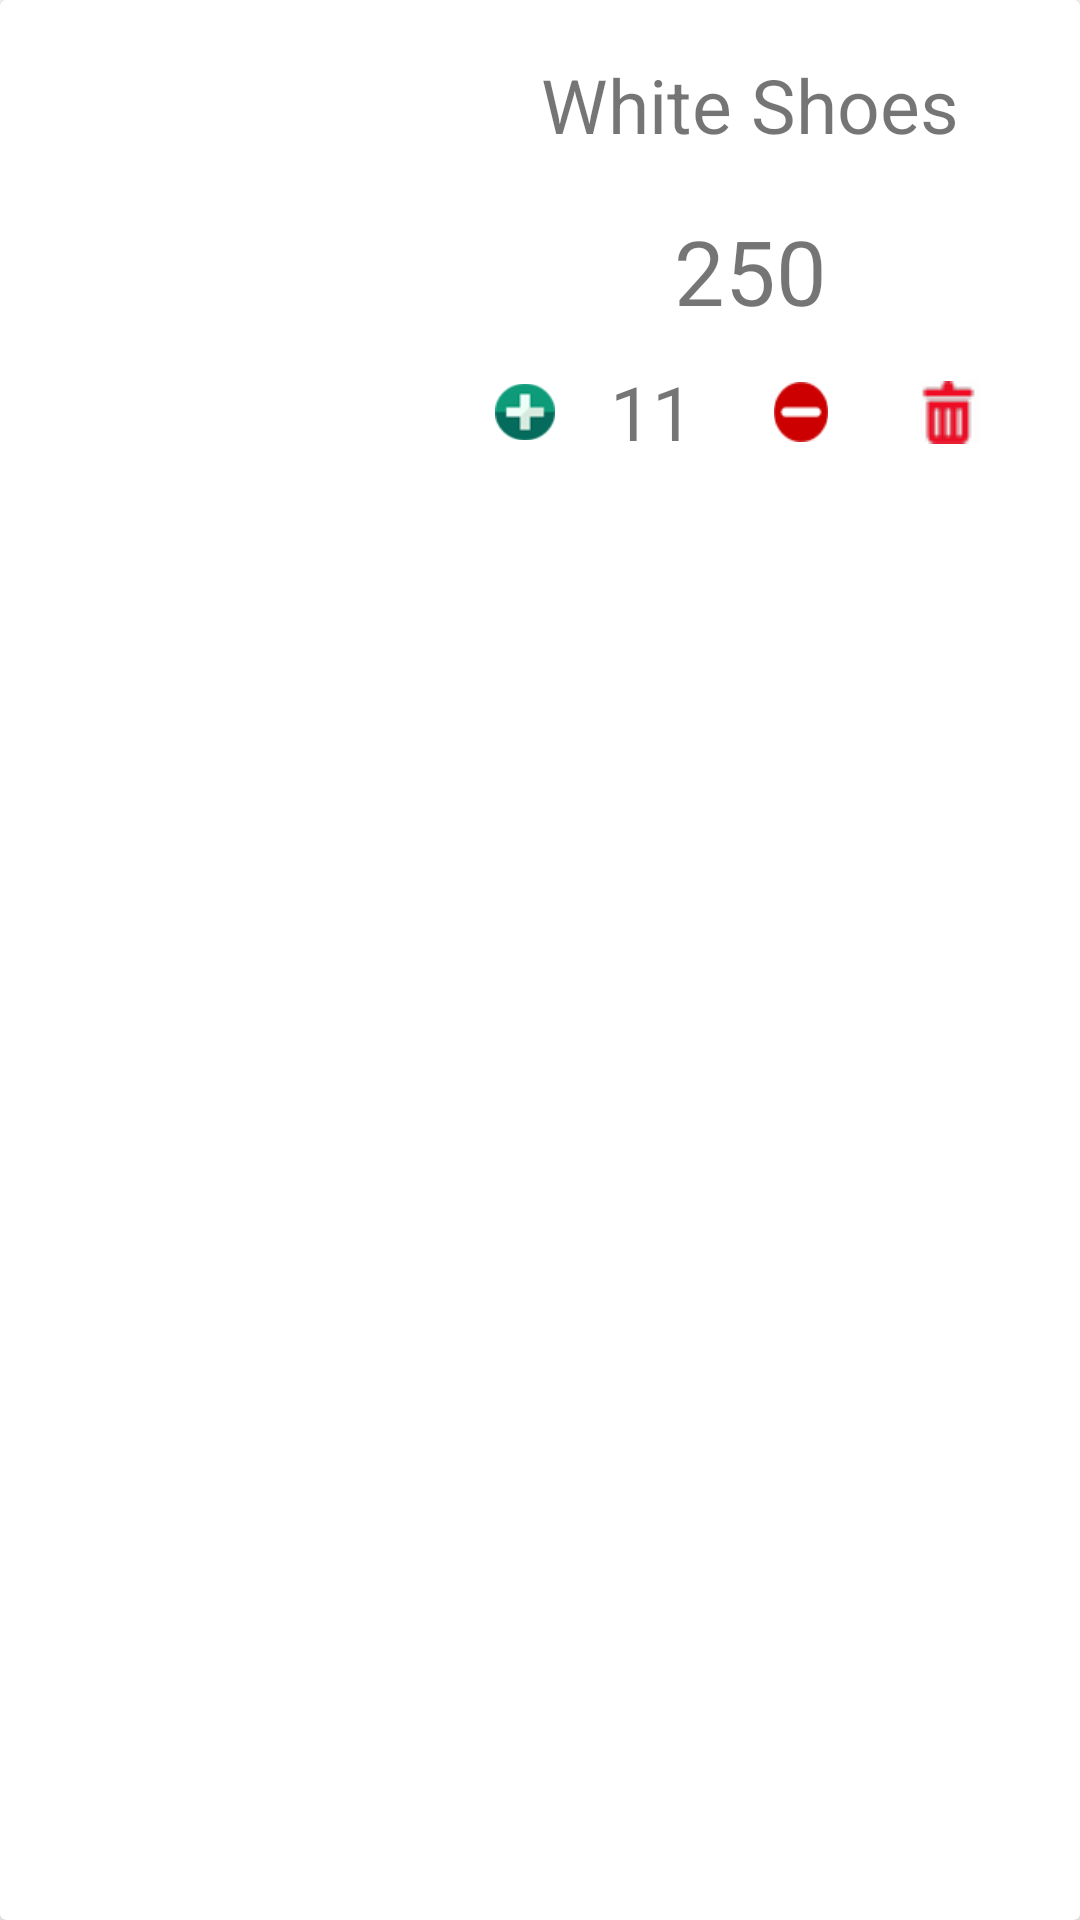

Icons on this 1080×1920 Android screen, each with its box as (x1, y1, x2, y2):
decr: (774, 382, 828, 442)
delete: (922, 381, 975, 444)
incr: (495, 384, 555, 440)
